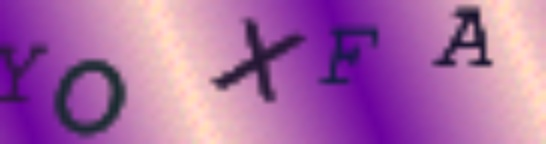A: (428, 1, 500, 70)
F: (319, 23, 386, 88)
O: (52, 57, 129, 143)
X: (209, 15, 309, 107)
Y: (1, 43, 53, 104)
